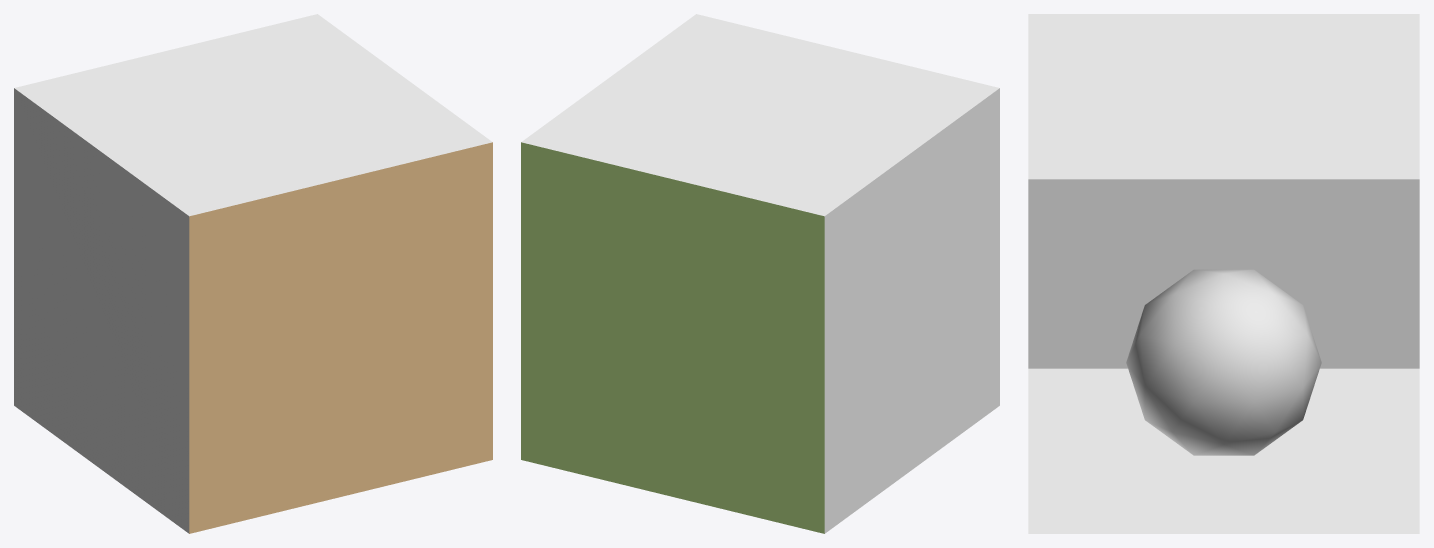
The model's file is 07-scene-easy.gltf.
3 renders of one model, left to right at view 1: azimuth 30°, elevation 25°; view 2: azimuth 150°, elevation 25°; view 3: azimuth 270°, elevation 25°, orthographic. The views are drawn at different scales.
Parts seen in each view (by area): view 1: Plane.003, Plane.004, Plane.002; view 2: Plane.001, Plane.004, Plane.002; view 3: Plane.002, Plane.004, Plane, Icosphere.
Boxes of the visible parts, x1,y1,x2,y2 form: Plane.003: (189, 142, 492, 533); Plane.004: (14, 88, 189, 533); Plane.002: (14, 14, 492, 216); Plane.001: (521, 142, 824, 533); Plane.004: (824, 88, 999, 533); Plane.002: (521, 14, 999, 216); Plane.002: (1028, 14, 1419, 179); Plane.004: (1028, 179, 1419, 368); Plane: (1028, 368, 1419, 533); Icosphere: (1126, 269, 1321, 455).
Size of the model in its own units: 2 by 2 by 2.
